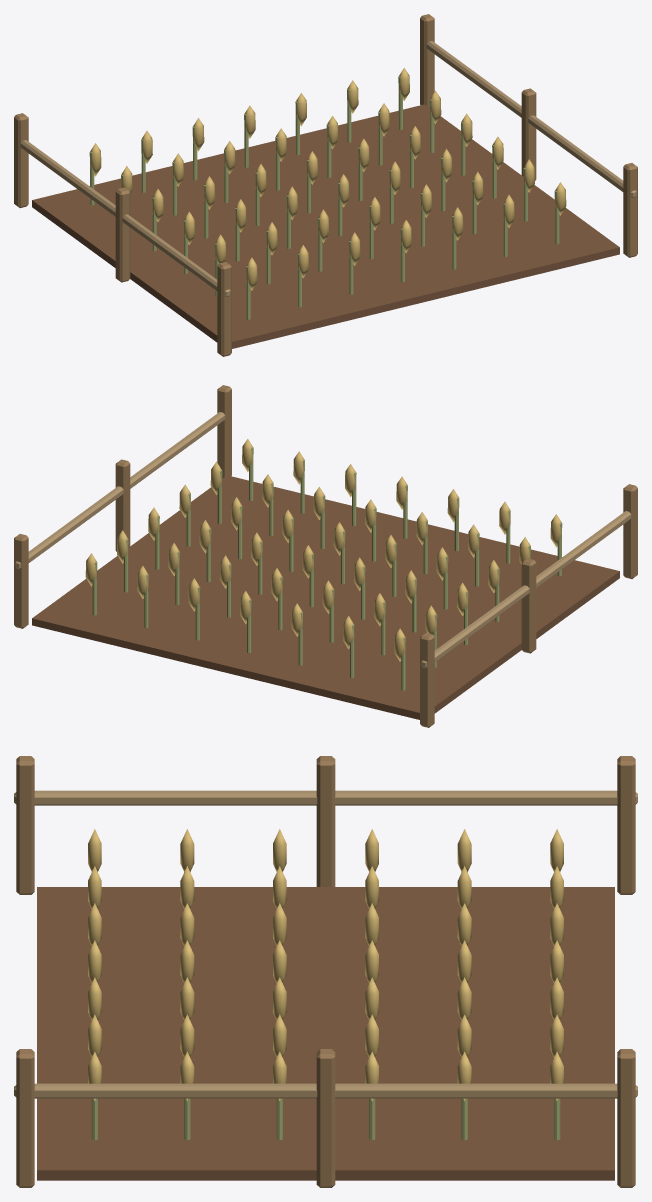
Rendered from farm.glb.
3 renders of one model, top to bottom at view 1: azimuth 30°, elevation 25°; view 2: azimuth 150°, elevation 25°; view 3: azimuth 270°, elevation 25°, orthographic. The views are drawn at different scales.
Parts seen in each view (by area): view 1: Model; view 2: Model; view 3: Model.
Part boxes in pixels (x1,y1,x2,y2): Model: (14, 14, 637, 356); Model: (14, 385, 637, 727); Model: (14, 756, 637, 1187).
Size of the model in its own units: 3.08 by 0.64 by 2.7.
